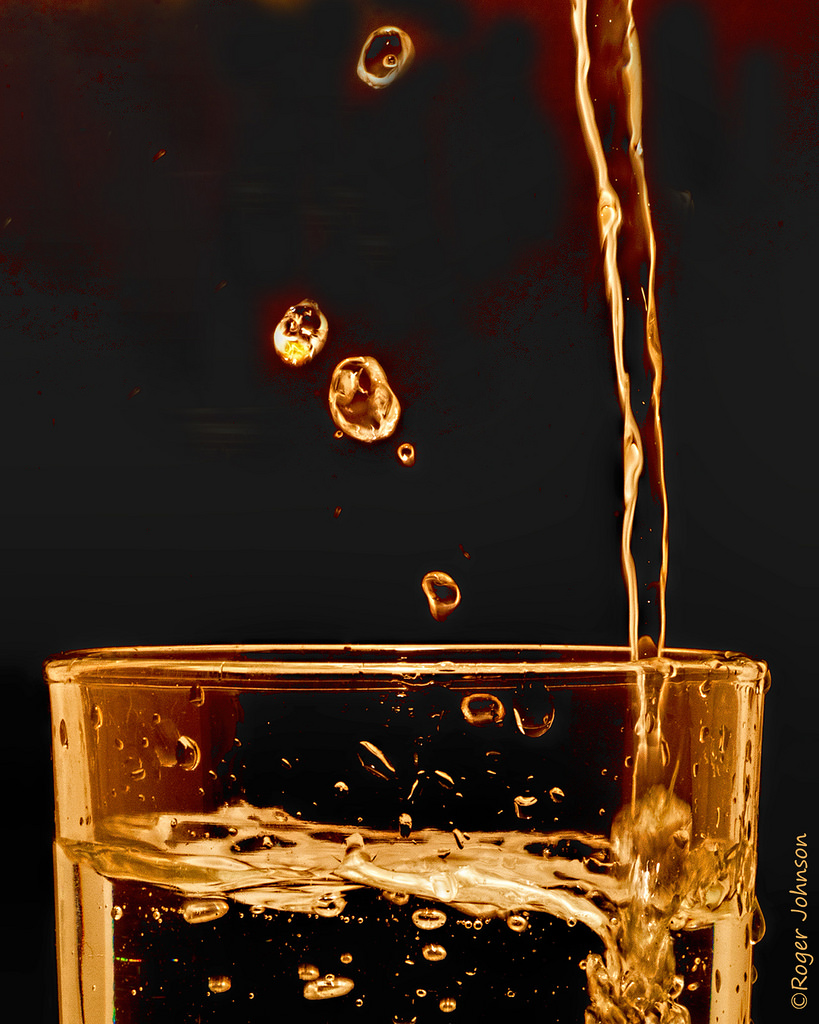glass of water: (44, 645, 748, 1015)
